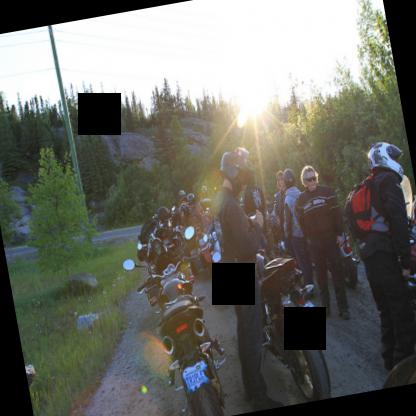backpack: (344, 171, 377, 242)
